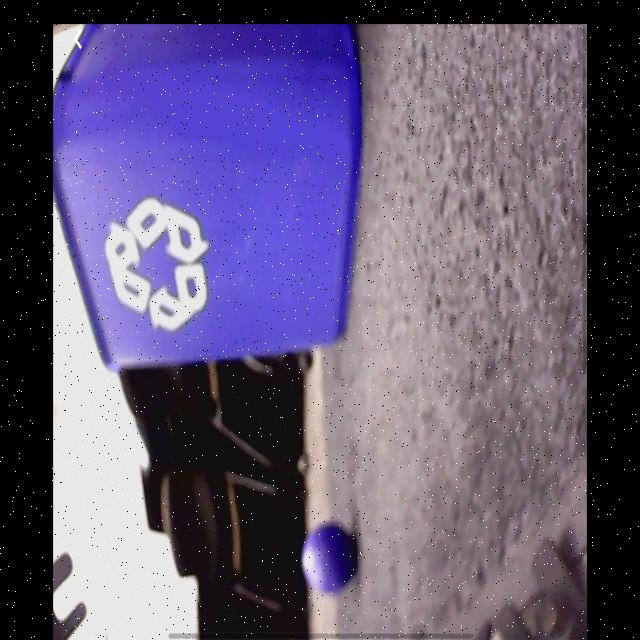ball: (303, 522, 355, 590)
